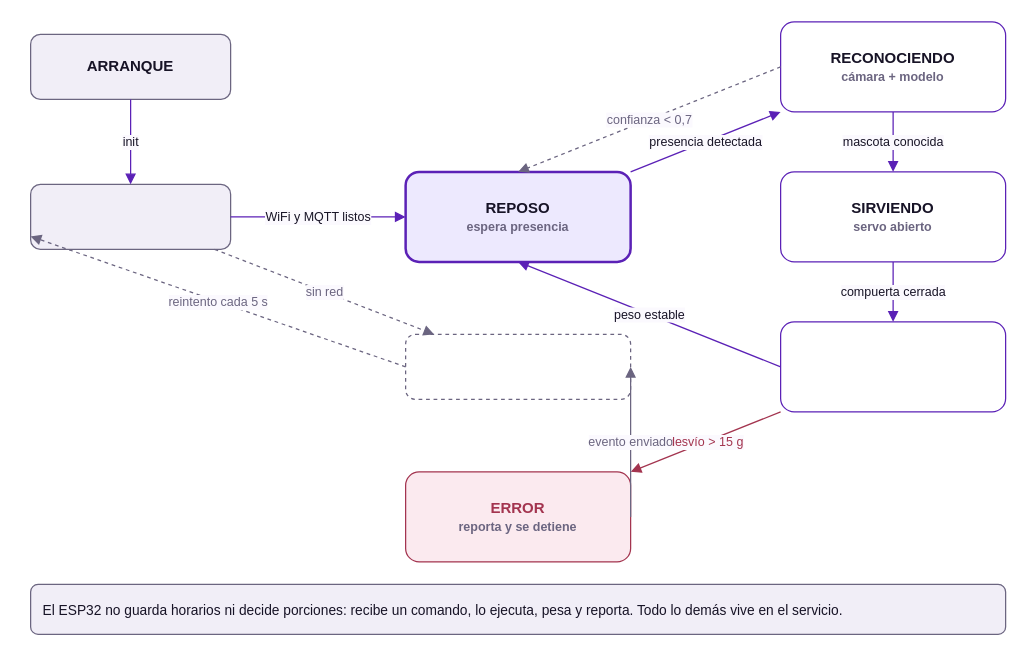
This 1028x656 diagram has some shape labels left out. Here are the shapes that lost their labels. From the top down, the centre of each, then its label:
At point 130,216: "CONECTANDO".
At point 517,366: "RECONECTANDO".
At point 892,366: "PESANDO HX711 + celda".
